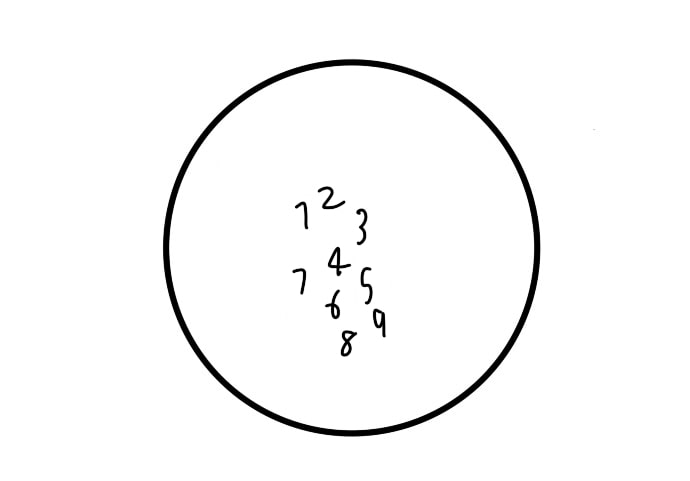eight: (339, 325, 358, 359)
five: (356, 264, 376, 307)
nine: (368, 306, 389, 340)
one: (293, 200, 311, 230)
seven: (288, 266, 310, 298)
six: (326, 286, 343, 321)
three: (354, 206, 368, 250)
two: (314, 184, 347, 214)
